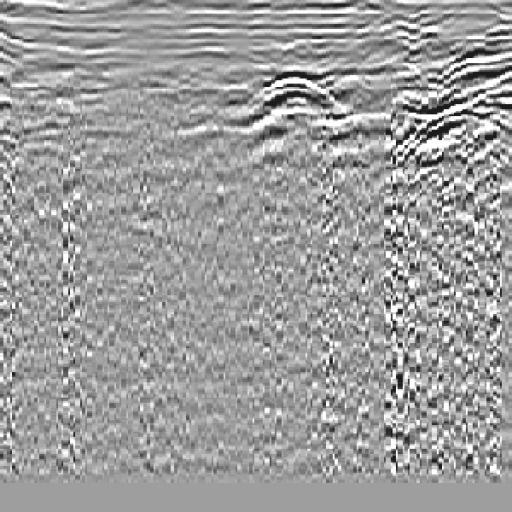metalic: (236, 51, 358, 129)
